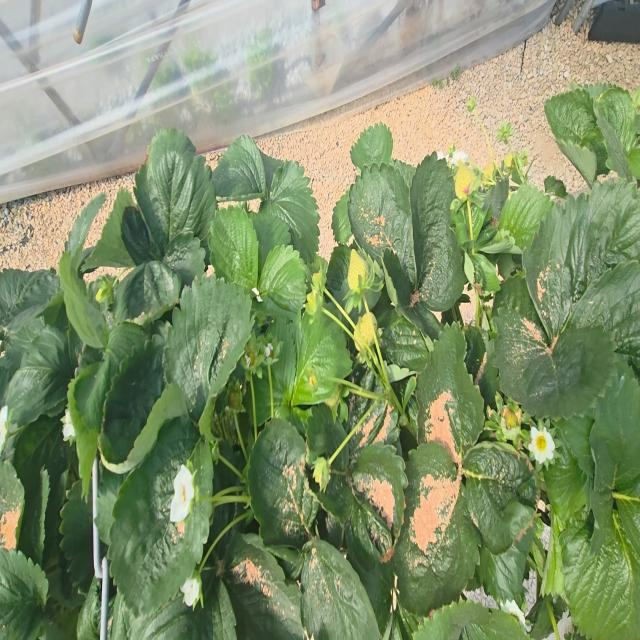Flowers: (170, 465, 194, 522), (528, 426, 555, 465), (181, 570, 202, 609), (63, 410, 75, 444), (446, 151, 468, 167), (0, 406, 7, 455), (265, 343, 273, 358), (437, 151, 445, 159)
Leaves: (109, 419, 213, 616), (522, 180, 640, 341), (391, 441, 479, 615), (495, 309, 617, 417), (164, 280, 251, 409), (134, 129, 216, 249), (416, 326, 484, 466), (410, 152, 467, 311), (248, 420, 319, 547), (561, 527, 640, 639), (222, 533, 304, 639), (347, 164, 416, 285), (299, 539, 381, 639), (463, 443, 536, 553), (101, 341, 164, 462), (569, 260, 640, 367), (5, 325, 78, 427), (129, 580, 236, 639), (348, 440, 407, 546), (288, 309, 352, 405), (589, 375, 640, 489), (307, 404, 352, 526), (265, 161, 320, 258), (59, 250, 108, 348), (413, 599, 531, 639), (545, 86, 606, 159), (0, 548, 48, 639), (84, 188, 136, 270), (0, 311, 45, 405), (209, 205, 258, 290), (13, 415, 67, 491), (254, 326, 295, 424), (115, 261, 181, 320), (594, 88, 636, 177), (498, 184, 552, 252), (258, 245, 307, 318), (60, 482, 93, 590), (0, 269, 59, 329), (213, 136, 267, 201), (544, 441, 588, 520), (19, 466, 50, 565), (381, 316, 431, 372), (465, 326, 499, 408), (494, 271, 542, 329), (65, 193, 106, 256), (250, 213, 291, 271), (558, 416, 594, 478), (0, 460, 24, 550), (351, 122, 393, 173), (613, 494, 640, 558), (383, 249, 412, 308), (326, 245, 350, 300), (331, 193, 352, 246), (261, 151, 283, 190)
Strawberries: (354, 308, 377, 351), (348, 249, 368, 292), (454, 161, 476, 199), (95, 276, 118, 309), (313, 457, 330, 491), (227, 380, 243, 412), (502, 406, 520, 430), (311, 268, 326, 295), (503, 150, 516, 178), (305, 290, 317, 315), (483, 162, 495, 180), (245, 349, 256, 368), (310, 376, 316, 385)
